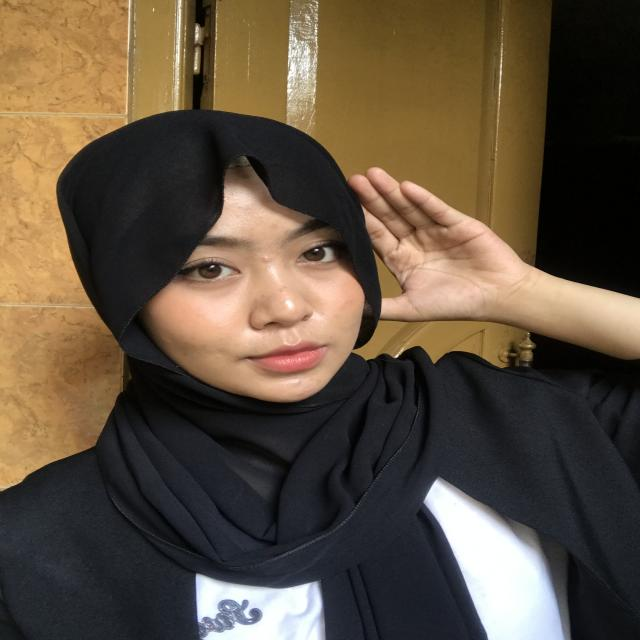mendengar: (336, 147, 552, 344)
